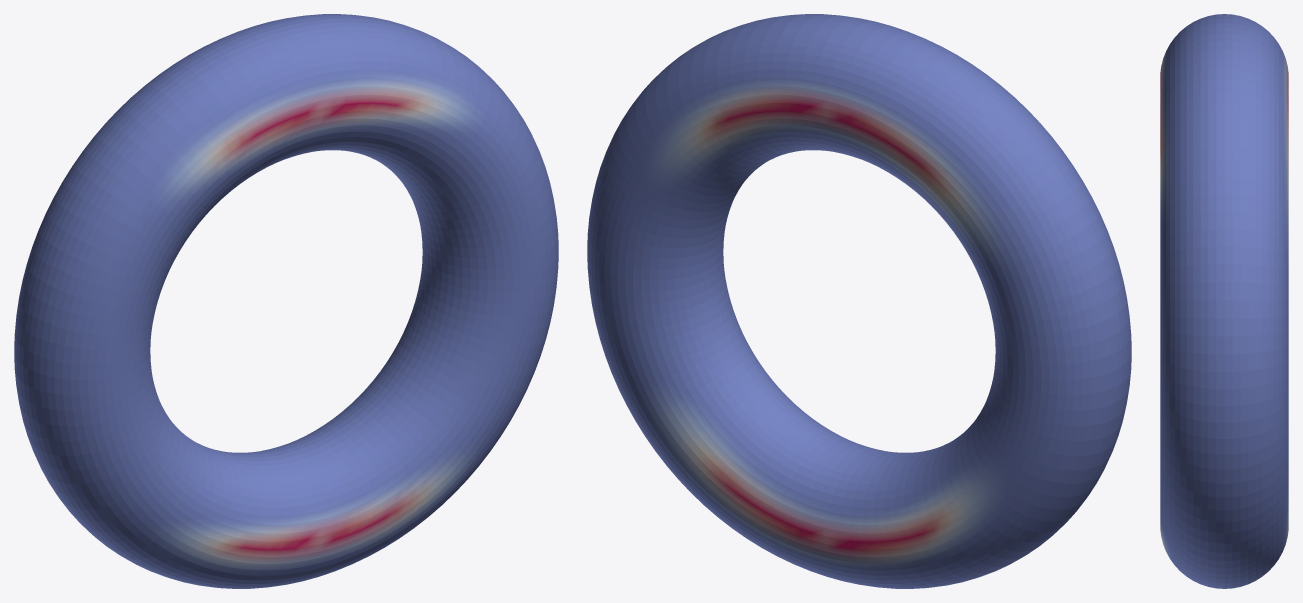
The picture shows the model from 3 angles, left to right: view 1: azimuth 30°, elevation 25°; view 2: azimuth 150°, elevation 25°; view 3: azimuth 270°, elevation 25°; orthographic projection. The views are drawn at different scales.
Parts seen in each view (by area): view 1: world; view 2: world; view 3: world.
Part boxes in pixels (x1,y1,x2,y2): world: (14, 14, 558, 588); world: (587, 14, 1131, 588); world: (1160, 14, 1288, 588).
Bounding box in the file's own units: 12.89 × 12.89 × 2.88.
